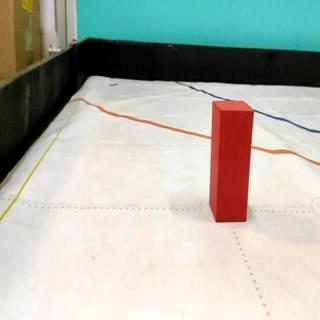redbox: (210, 100, 254, 222)
